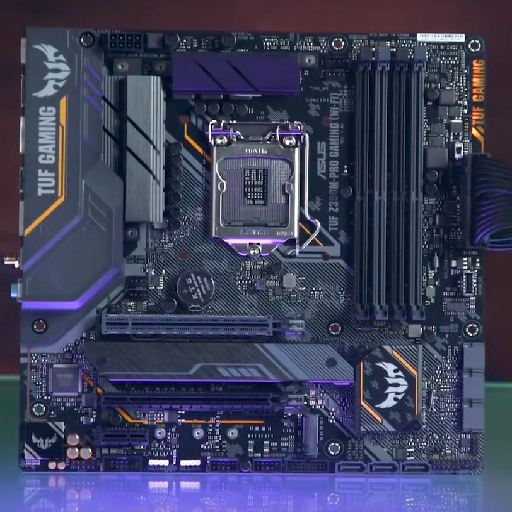CPU: (208, 131, 300, 258)
GPU: (101, 310, 310, 344), (98, 384, 309, 415)
MOTHERBOARD: (14, 24, 488, 479)
RAM: (354, 44, 428, 325)
SSD: (297, 416, 324, 458)
